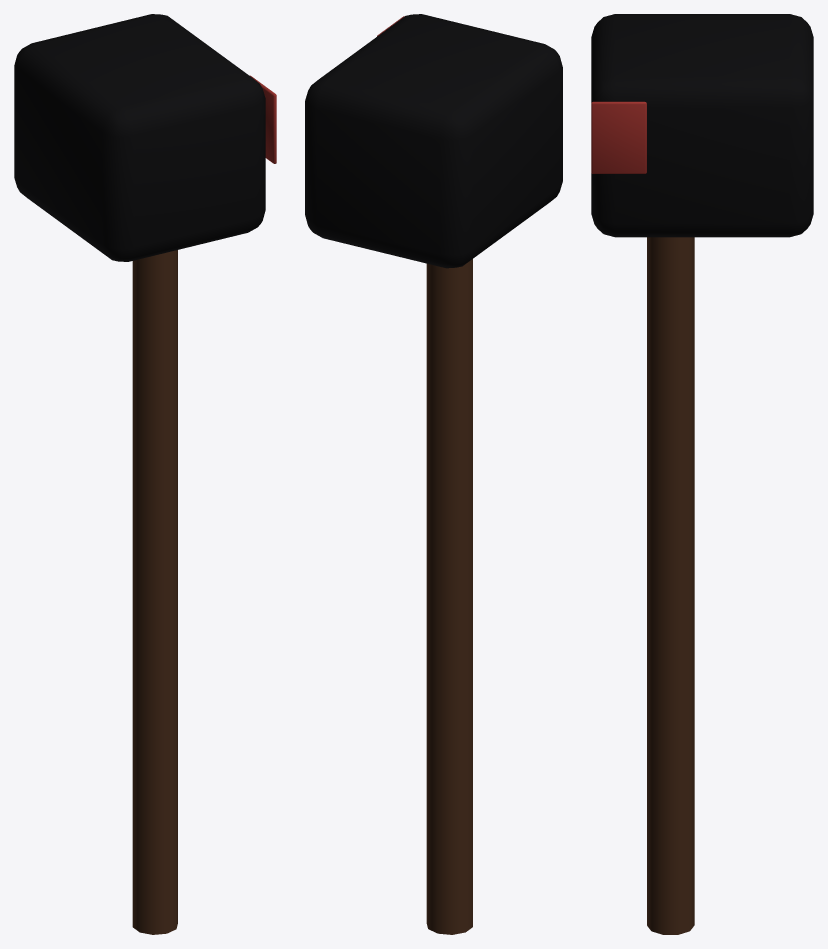
File: Mailbox.glb
The picture shows the model from 3 angles, left to right: view 1: azimuth 30°, elevation 25°; view 2: azimuth 150°, elevation 25°; view 3: azimuth 270°, elevation 25°; orthographic projection. The views are drawn at different scales.
Parts seen in each view (by area): view 1: Mailbox; view 2: Mailbox; view 3: Mailbox.
Part boxes in pixels (bbox=[...]): Mailbox: bbox=[14, 14, 276, 934]; Mailbox: bbox=[305, 14, 562, 934]; Mailbox: bbox=[591, 14, 813, 934].
Size of the model in its own units: 0.245 by 1.22 by 0.28.
